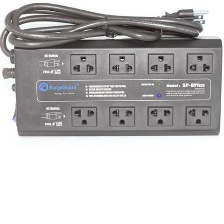three_eye_plug: (7, 35, 223, 139)
